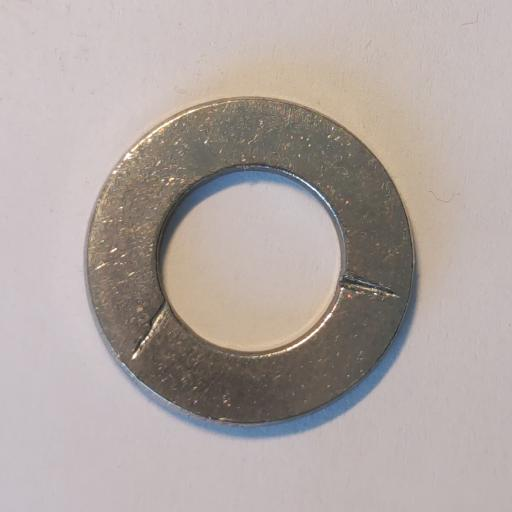scratch: (132, 301, 167, 360), (339, 275, 400, 301)
